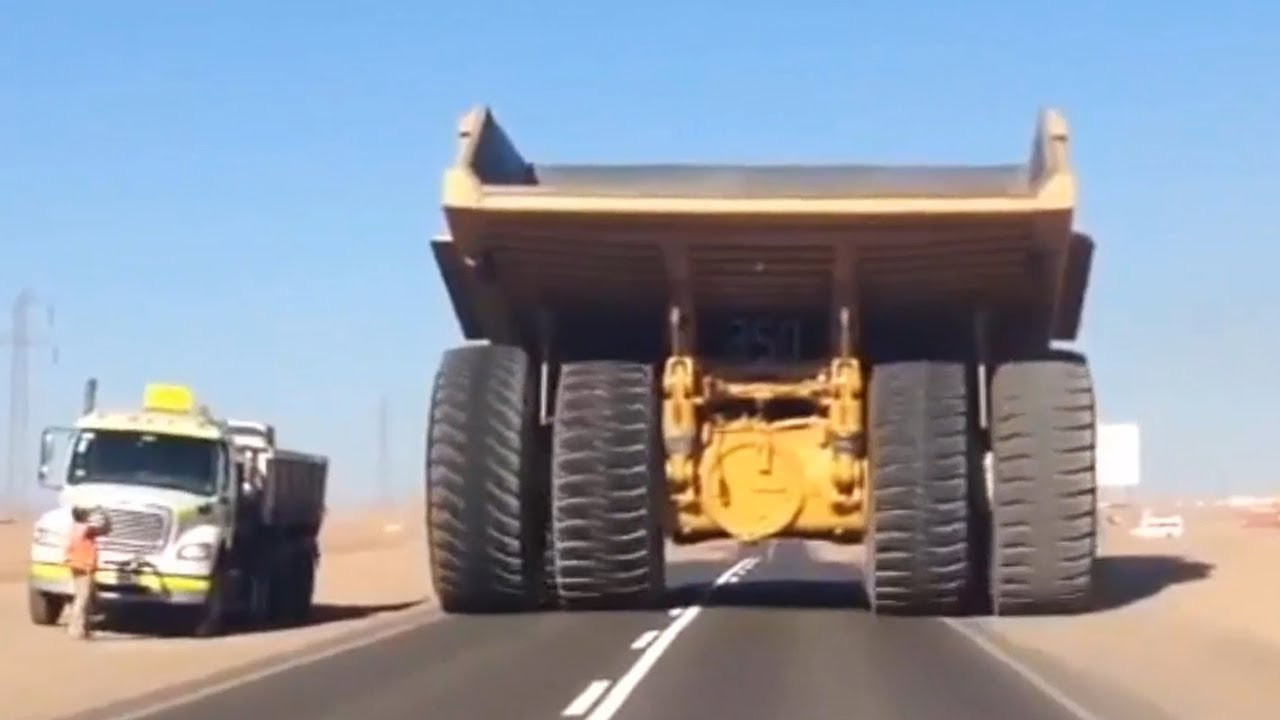truck: (423, 108, 1100, 615)
